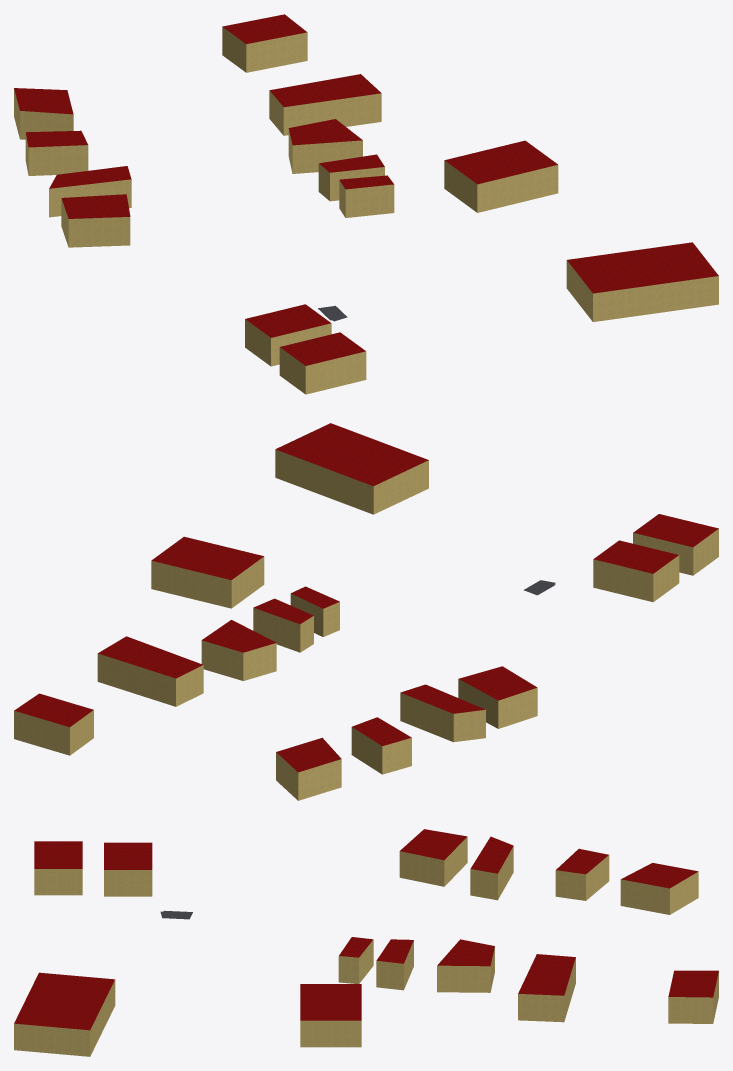
The model's file is district_-3_-2.glb.
3 views of the same model, one above another, from view 1: azimuth 30°, elevation 25°; view 2: azimuth 150°, elevation 25°; view 3: azimuth 270°, elevation 25° (orthographic). The views are drawn at different scales.
Visible parts, largest first — view 1: Building w624687514, Building w44036599, Building w625328546, Building w626614359, Building w625328543, Building w625328568, Building w626614357, Building w625328547, Building w625328566, Building w625328565, Building w625328567, Building w625328552 (+1 smaller); view 2: Building w624687514, Building w44036599, Building w625328546, Building w626614357, Building w625328543, Building w625328567, Building w625328547, Building w625328568, Building w626614359, Building w625328565, Building w625328566, Building w625328550 (+1 smaller); view 3: Building w624687514, Building w44036599, Building w625328546, Building w625328565, Building w625328568, Building w626614359, Building w626614357, Building w625328547, Building w625328543, Building w625328566, Building w625328567, Building w625328550 (+1 smaller).
Boxes of the visible parts, x1=… form: Building w624687514: x1=566, y1=242, x2=718, y2=321; Building w44036599: x1=444, y1=140, x2=558, y2=212; Building w625328546: x1=269, y1=74, x2=381, y2=135; Building w626614359: x1=279, y1=332, x2=366, y2=394; Building w625328543: x1=222, y1=14, x2=307, y2=72; Building w625328568: x1=61, y1=194, x2=130, y2=247; Building w626614357: x1=245, y1=304, x2=331, y2=366; Building w625328547: x1=288, y1=119, x2=362, y2=173; Building w625328566: x1=25, y1=130, x2=88, y2=175; Building w625328565: x1=14, y1=88, x2=73, y2=139; Building w625328567: x1=49, y1=166, x2=131, y2=217; Building w625328552: x1=339, y1=175, x2=394, y2=217; Building w624687514: x1=275, y1=423, x2=428, y2=514; Building w44036599: x1=151, y1=536, x2=264, y2=608; Building w625328546: x1=97, y1=636, x2=203, y2=706; Building w626614357: x1=593, y1=540, x2=679, y2=602; Building w625328543: x1=14, y1=693, x2=93, y2=755; Building w625328567: x1=400, y1=684, x2=485, y2=742; Building w625328547: x1=201, y1=620, x2=276, y2=680; Building w625328568: x1=458, y1=666, x2=537, y2=728; Building w626614359: x1=633, y1=514, x2=718, y2=575; Building w625328565: x1=276, y1=737, x2=341, y2=800; Building w625328566: x1=351, y1=717, x2=411, y2=774; Building w625328550: x1=253, y1=598, x2=313, y2=652; Building w624687514: x1=14, y1=972, x2=115, y2=1056; Building w44036599: x1=300, y1=984, x2=361, y2=1047; Building w625328546: x1=518, y1=954, x2=575, y2=1022; Building w625328565: x1=620, y1=863, x2=698, y2=914; Building w625328568: x1=399, y1=829, x2=467, y2=886; Building w626614359: x1=34, y1=841, x2=82, y2=895; Building w626614357: x1=104, y1=842, x2=152, y2=896; Building w625328547: x1=437, y1=939, x2=494, y2=992; Building w625328543: x1=668, y1=970, x2=718, y2=1023; Building w625328566: x1=555, y1=848, x2=609, y2=900; Building w625328567: x1=470, y1=836, x2=513, y2=900; Building w625328550: x1=376, y1=939, x2=413, y2=990.
Size of the model in its own units: 122 by 7.5 by 180.
3 materials, 3 textured.
